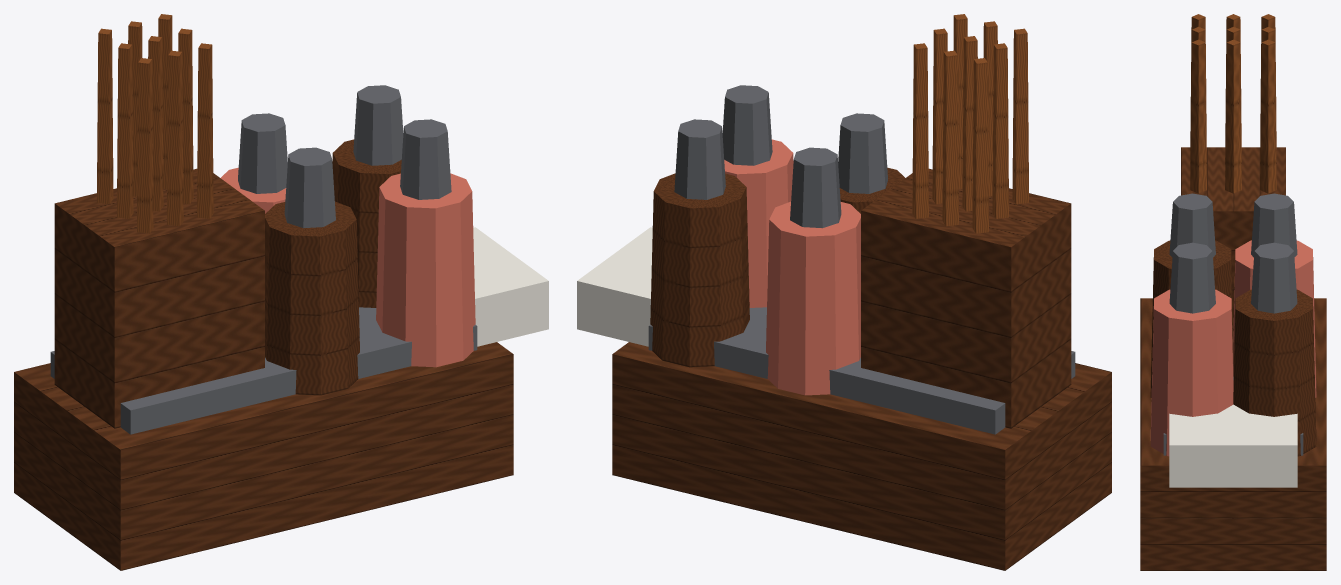
File: chopstick_and_condiment_caddy.glb
The picture shows the model from 3 angles, left to right: view 1: azimuth 30°, elevation 25°; view 2: azimuth 150°, elevation 25°; view 3: azimuth 270°, elevation 25°; orthographic projection. The views are drawn at different scales.
Parts seen in each view (by area): view 1: chopstick-and-condiment-caddy-darkwood, chopstick-and-condiment-caddy-charcoal, chopstick-and-condiment-caddy-timber, chopstick-and-condiment-caddy-vermilion, chopstick-and-condiment-caddy-cream; view 2: chopstick-and-condiment-caddy-darkwood, chopstick-and-condiment-caddy-charcoal, chopstick-and-condiment-caddy-vermilion, chopstick-and-condiment-caddy-timber, chopstick-and-condiment-caddy-cream; view 3: chopstick-and-condiment-caddy-darkwood, chopstick-and-condiment-caddy-vermilion, chopstick-and-condiment-caddy-charcoal, chopstick-and-condiment-caddy-cream, chopstick-and-condiment-caddy-timber.
Part boxes in pixels (<box>): chopstick-and-condiment-caddy-darkwood: <box>14,139,513,570</box>; chopstick-and-condiment-caddy-charcoal: <box>50,85,477,434</box>; chopstick-and-condiment-caddy-timber: <box>96,14,213,233</box>; chopstick-and-condiment-caddy-vermilion: <box>220,167,475,367</box>; chopstick-and-condiment-caddy-cream: <box>473,227,548,346</box>; chopstick-and-condiment-caddy-darkwood: <box>612,167,1111,570</box>; chopstick-and-condiment-caddy-charcoal: <box>648,85,1075,434</box>; chopstick-and-condiment-caddy-vermilion: <box>724,139,860,395</box>; chopstick-and-condiment-caddy-timber: <box>912,14,1029,233</box>; chopstick-and-condiment-caddy-cream: <box>577,227,652,346</box>; chopstick-and-condiment-caddy-darkwood: <box>1140,147,1326,570</box>; chopstick-and-condiment-caddy-vermilion: <box>1150,240,1316,456</box>; chopstick-and-condiment-caddy-charcoal: <box>1163,193,1303,455</box>; chopstick-and-condiment-caddy-cream: <box>1169,404,1297,487</box>; chopstick-and-condiment-caddy-timber: <box>1190,14,1276,193</box>.
Size of the model in its own units: 0.385 by 0.39 by 0.16.
5 materials, 2 textured.
